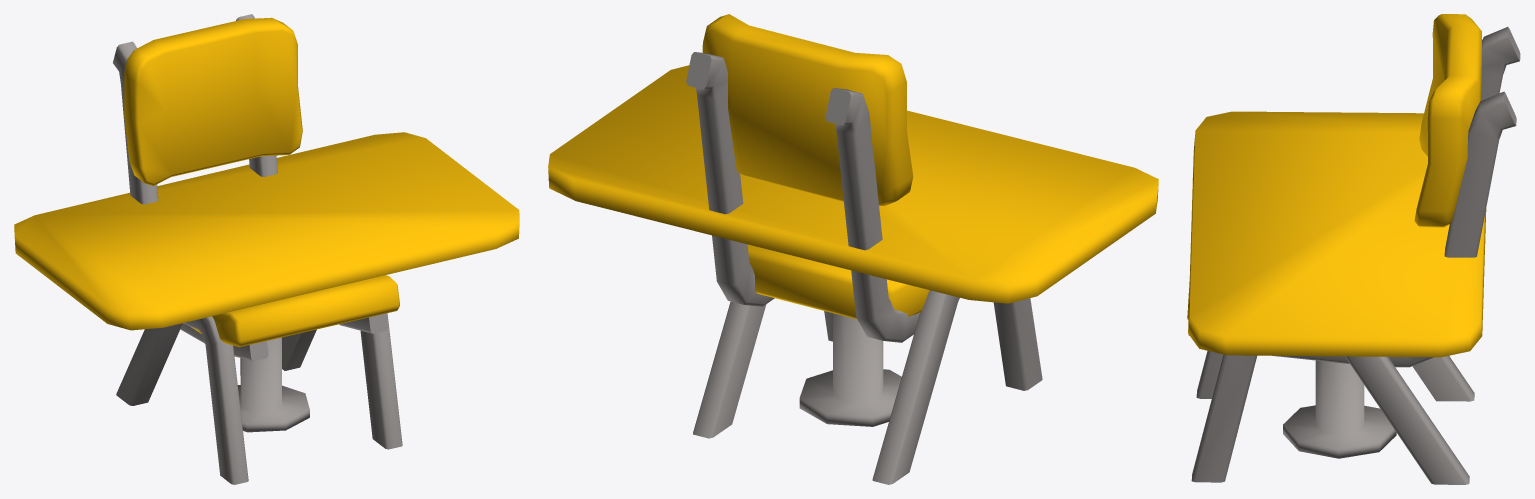
The model's file is Chair and table.fbx.
3 views of the same model, side by side, from view 1: azimuth 30°, elevation 25°; view 2: azimuth 150°, elevation 25°; view 3: azimuth 270°, elevation 25° (orthographic). The views are drawn at different scales.
Parts seen in each view (by area): view 1: fast food default chair.013, fast food default chair.014; view 2: fast food default chair.013, fast food default chair.014; view 3: fast food default chair.013, fast food default chair.014.
Boxes of the visible parts, <box> form: fast food default chair.013: <box>14,132,519,432</box>; fast food default chair.014: <box>113,14,402,484</box>; fast food default chair.013: <box>548,65,1158,426</box>; fast food default chair.014: <box>686,14,1042,484</box>; fast food default chair.013: <box>1188,111,1486,458</box>; fast food default chair.014: <box>1187,14,1520,484</box>.
Size of the model in its own units: 1.46 by 1.16 by 0.9052.
